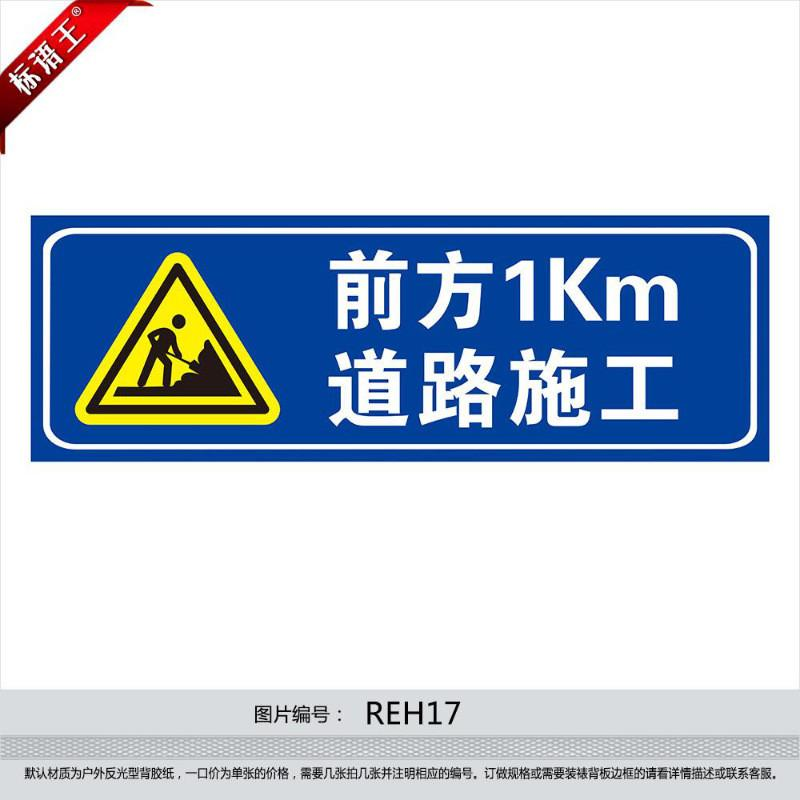sign: (31, 221, 769, 465)
